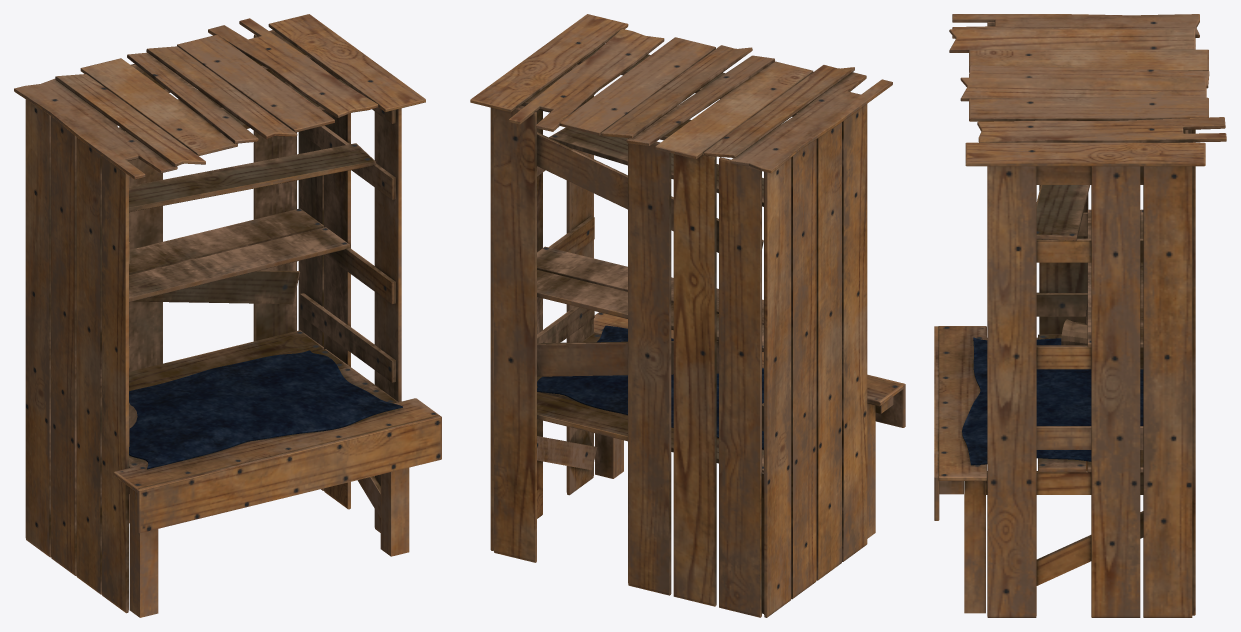
Rendered from Workbench.fbx.
The picture shows the model from 3 angles, left to right: view 1: azimuth 30°, elevation 25°; view 2: azimuth 150°, elevation 25°; view 3: azimuth 270°, elevation 25°; orthographic projection. The views are drawn at different scales.
Visible parts, largest first — view 1: Plane.052, Plane.019, Plane.003, Plane.057, Plane.056, Plane.055, Plane.077, Plane.058, Plane.043, Plane.018, Plane.036, Plane.034 (+18 smaller); view 2: Plane.041, Plane.001, Plane.042, Plane.075, Plane.057, Plane.056, Plane.055, Plane.003, Plane.036, Plane.034, Plane.032, Plane.035 (+21 smaller); view 3: Plane.058, Plane.059, Plane.060, Plane.052, Plane.036, Plane.018, Plane.035, Plane.034, Plane.031, Plane.054, Plane.032, Plane (+17 smaller).
Part boxes in pixels (x1,y1,x2,y2): Plane.052: [129, 350, 402, 469]; Plane.019: [137, 415, 441, 533]; Plane.003: [102, 156, 128, 613]; Plane.057: [25, 99, 50, 557]; Plane.056: [51, 116, 76, 575]; Plane.055: [76, 137, 101, 594]; Plane.077: [129, 143, 375, 212]; Plane.058: [374, 108, 401, 532]; Plane.043: [129, 227, 349, 302]; Plane.018: [113, 398, 439, 492]; Plane.036: [268, 14, 425, 112]; Plane.034: [177, 34, 334, 132]; Plane.041: [673, 153, 716, 606]; Plane.001: [628, 138, 671, 595]; Plane.042: [719, 157, 761, 617]; Plane.075: [494, 107, 536, 562]; Plane.057: [764, 158, 791, 617]; Plane.056: [791, 139, 816, 599]; Plane.055: [816, 122, 841, 580]; Plane.003: [842, 104, 867, 561]; Plane.036: [470, 14, 628, 112]; Plane.034: [559, 37, 715, 135]; Plane.032: [655, 61, 813, 159]; Plane.035: [509, 29, 664, 131]; Plane.058: [987, 166, 1036, 617]; Plane.059: [1091, 166, 1140, 617]; Plane.060: [1143, 166, 1192, 617]; Plane.052: [962, 337, 1143, 465]; Plane.036: [965, 142, 1205, 166]; Plane.018: [938, 326, 986, 480]; Plane.035: [977, 117, 1226, 142]; Plane.034: [969, 97, 1208, 121]; Plane.031: [949, 29, 1195, 52]; Plane.054: [960, 77, 1206, 101]; Plane.032: [969, 49, 1208, 72]; Plane: [952, 14, 1199, 38].
Size of the model in its own units: 489 by 701 by 399.
